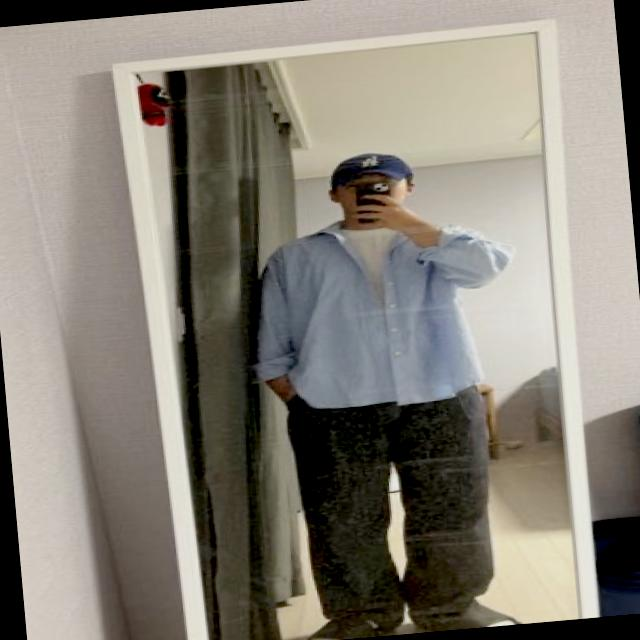cottonpants: (283, 365, 504, 628)
shirt: (250, 210, 526, 415)
